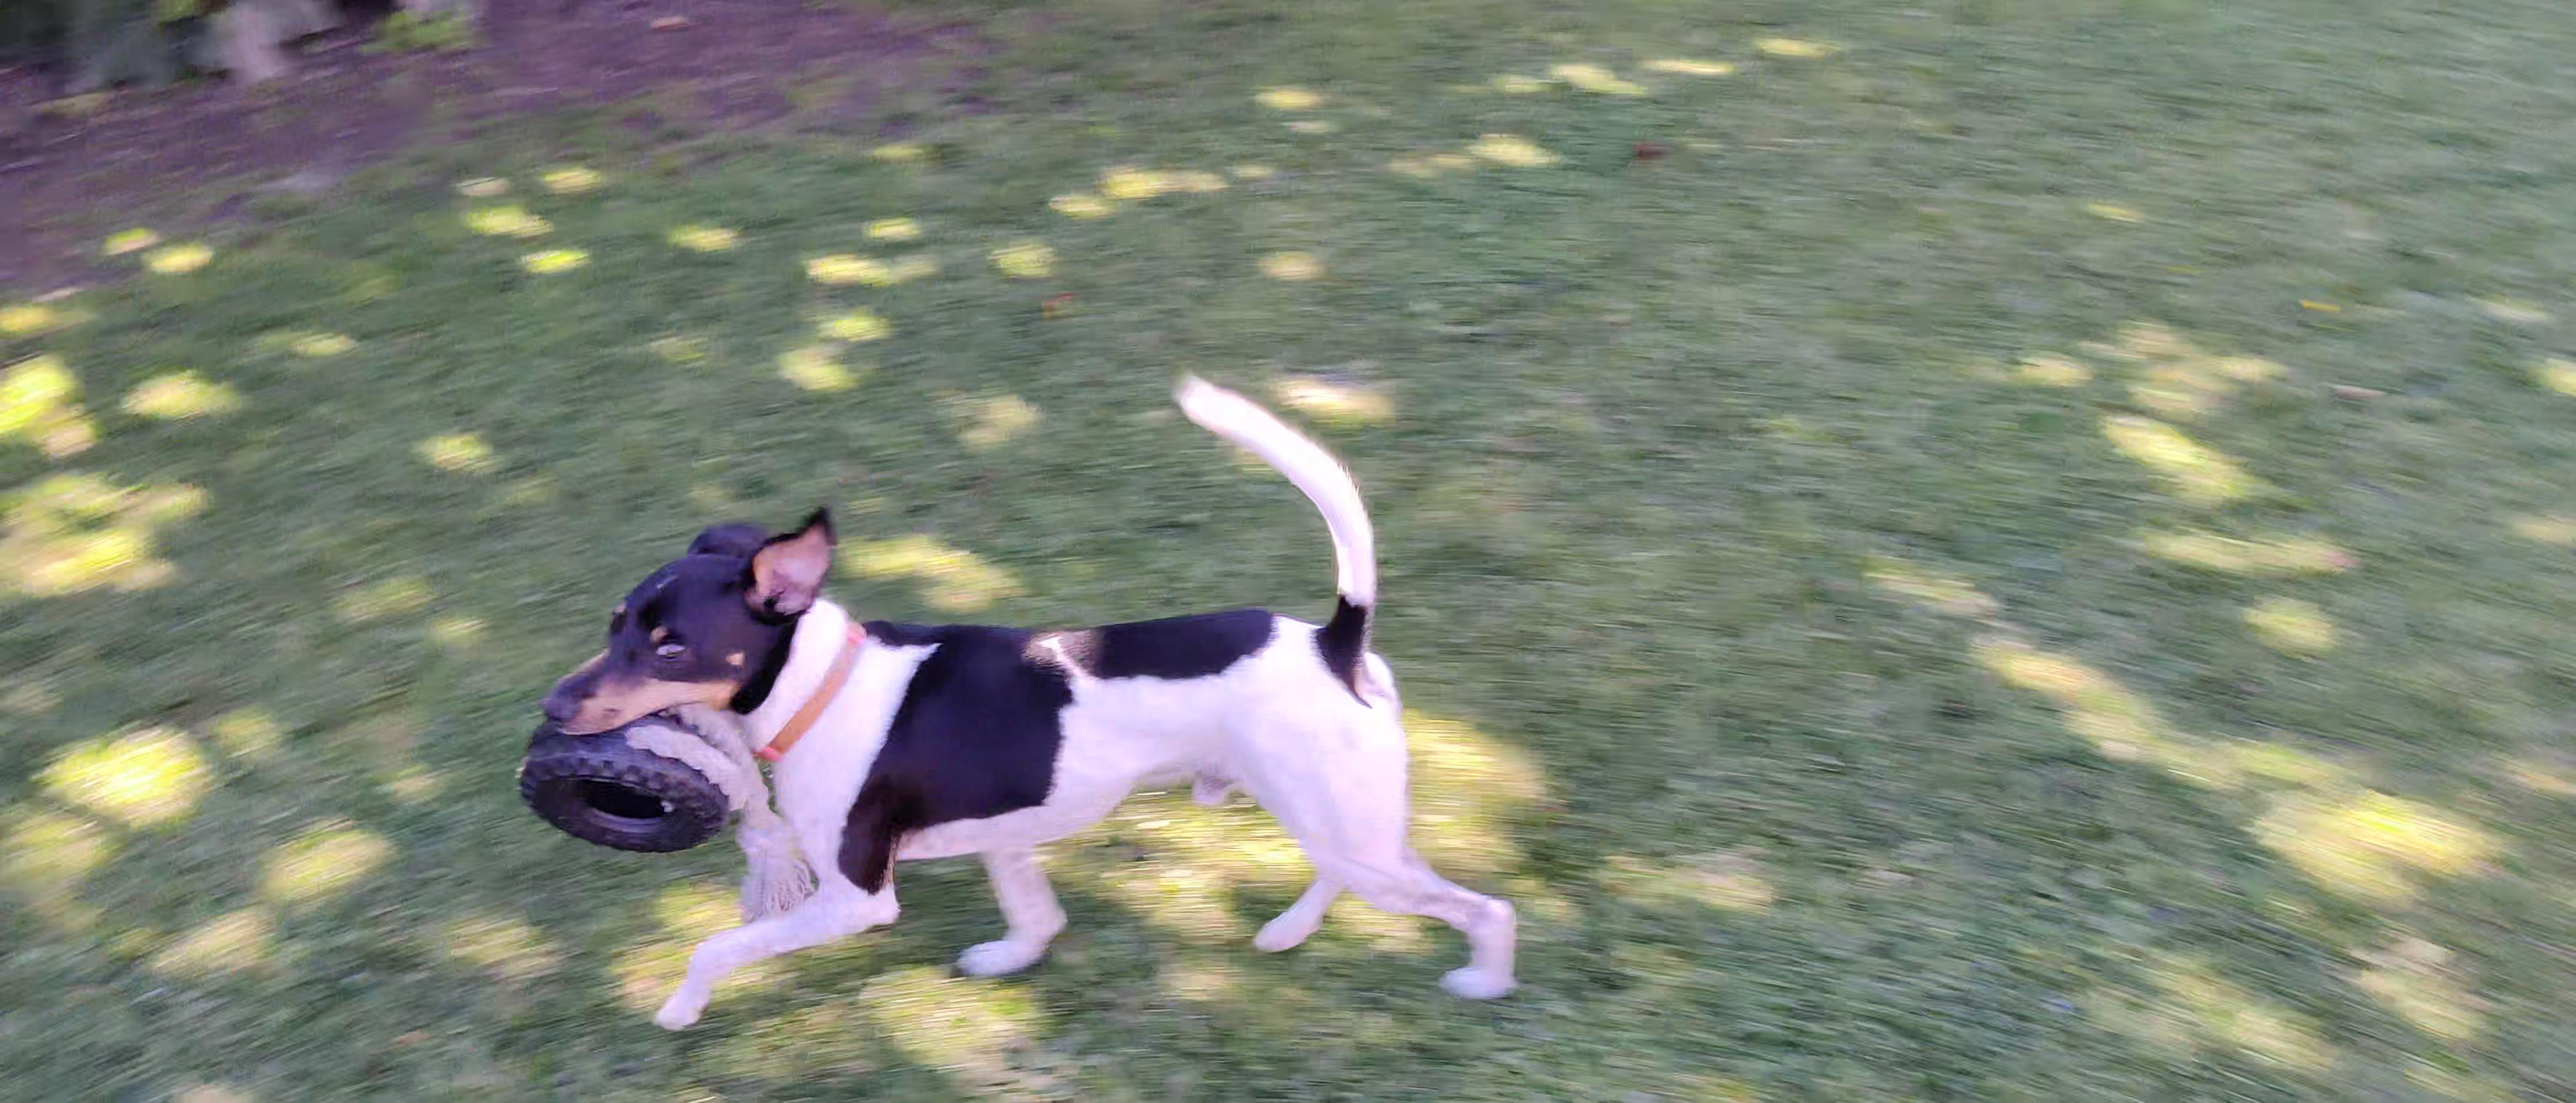Dog: (522, 362, 1571, 1041)
